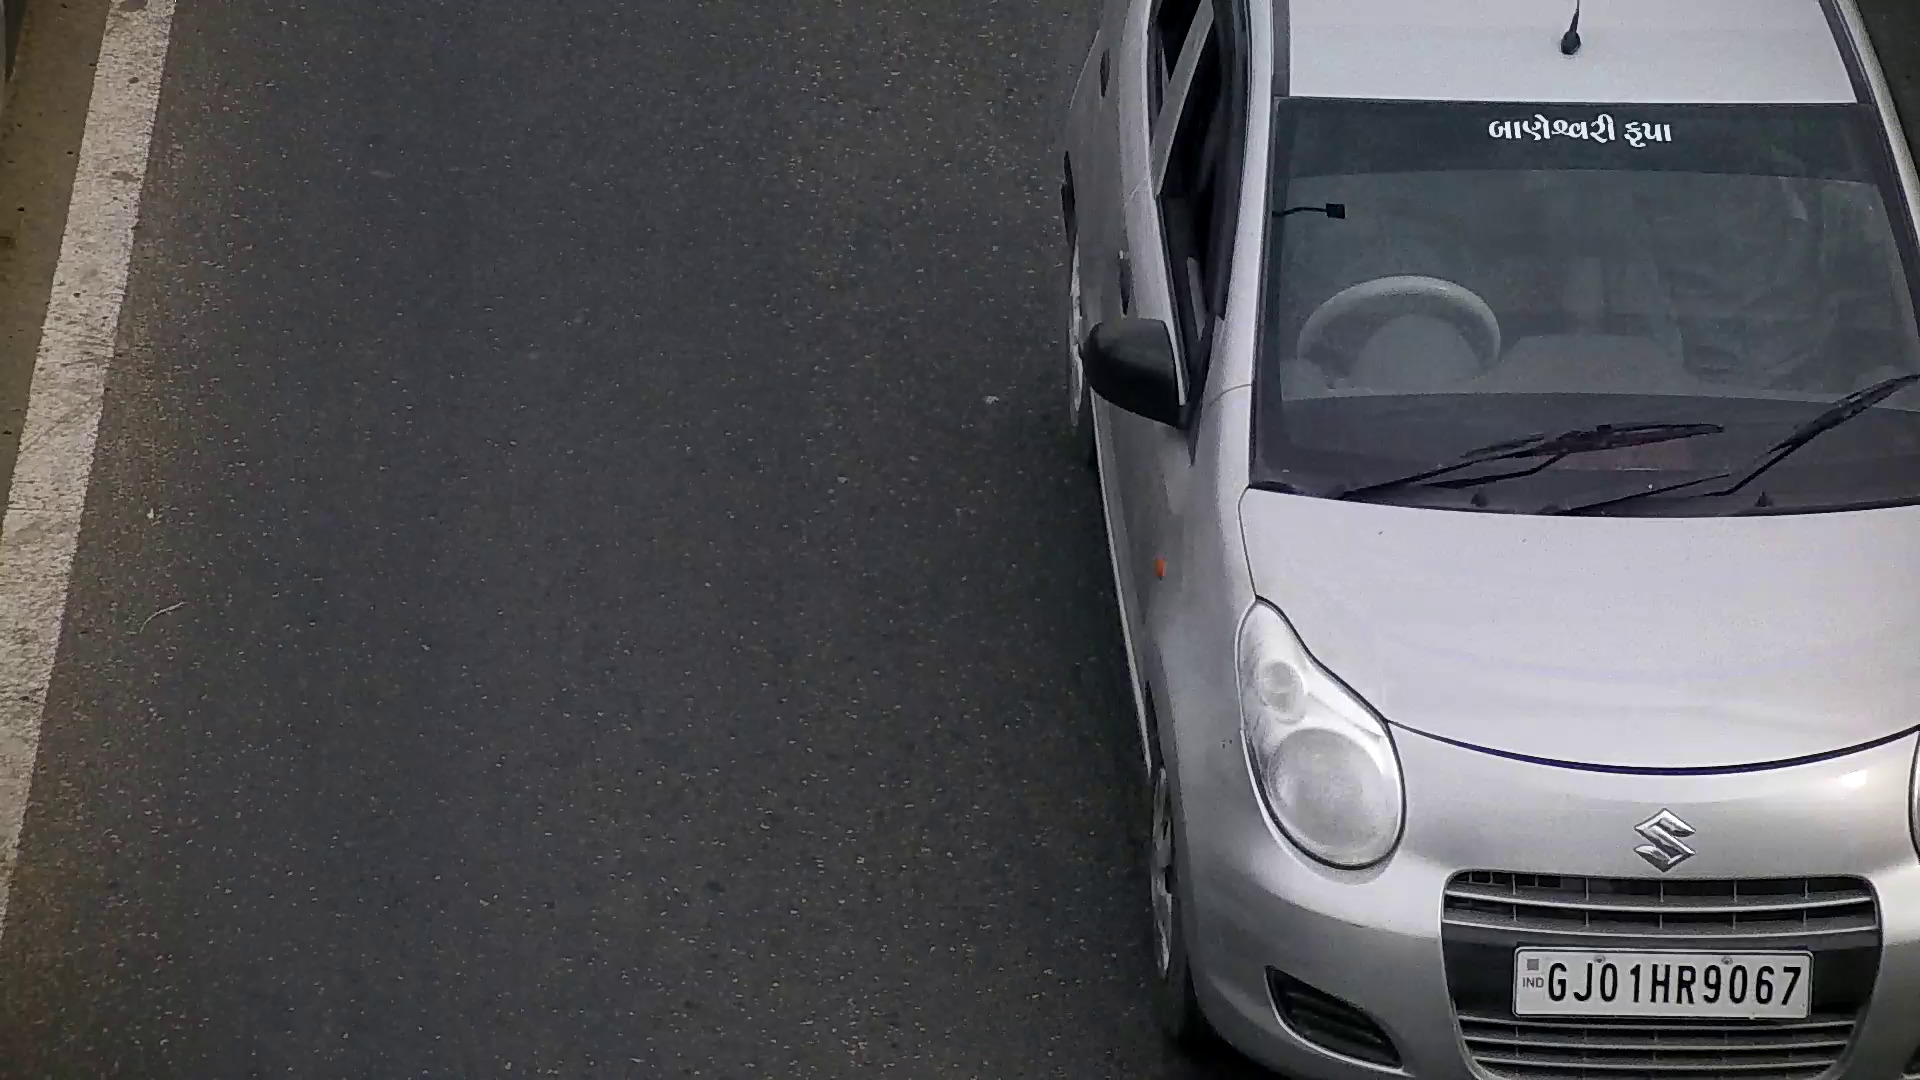numberplate: (1508, 942, 1814, 1026)
